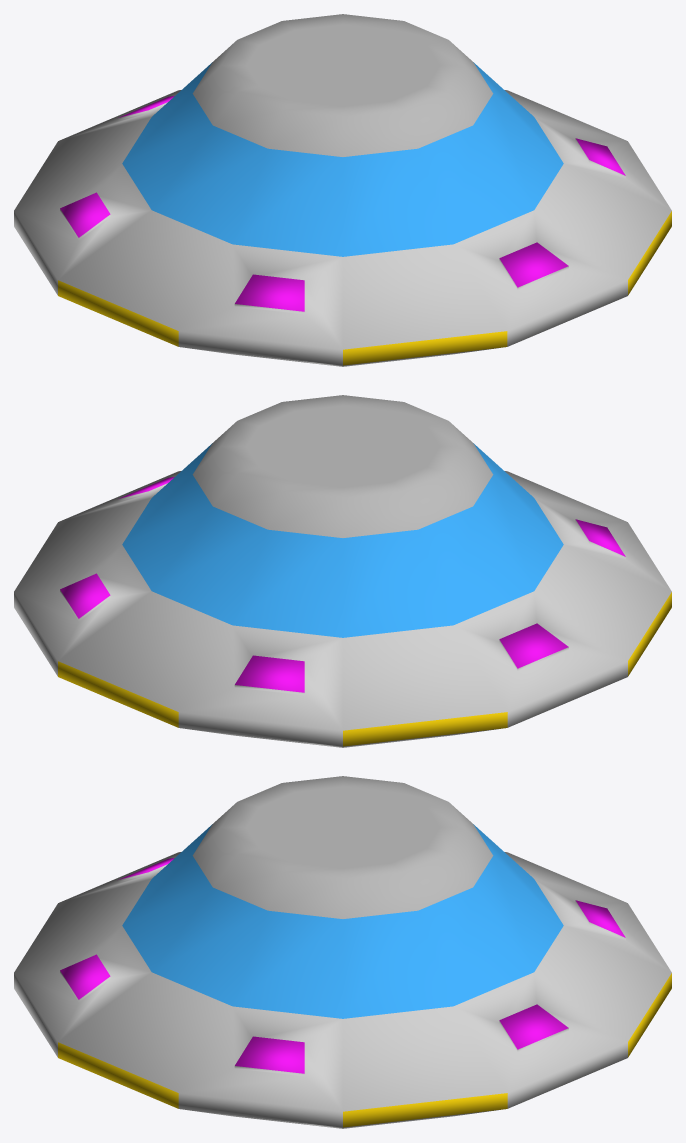
The model's file is Ufo 1.fbx.
The picture shows the model from 3 angles, top to bottom: view 1: azimuth 30°, elevation 25°; view 2: azimuth 150°, elevation 25°; view 3: azimuth 270°, elevation 25°; orthographic projection.
Parts seen in each view (by area): view 1: Cylinder; view 2: Cylinder; view 3: Cylinder.
Part boxes in pixels (box(x1,y1,x2,y2)): Cylinder: box(14, 14, 671, 366); Cylinder: box(14, 395, 671, 747); Cylinder: box(14, 776, 671, 1128).
Size of the model in its own units: 2 by 0.8331 by 2.
